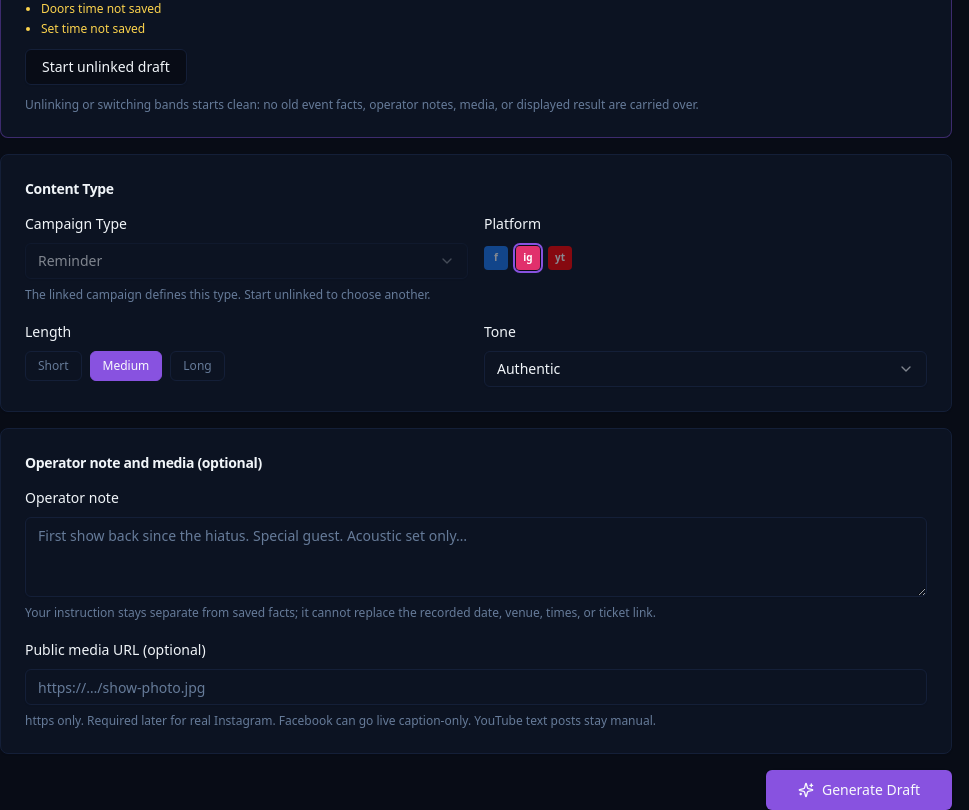
it: campaign-linked generation through actual Content Studio › never labels a wrong or malformed result successful: {"bandId":"clhf5gt0000000test0bandid2"}
(page scrolled)
What coordinates should you click on to do the following:
click the button "Generate Draft"
I would click on:
 (859, 790)
Its box is 766,770 -> 952,809.
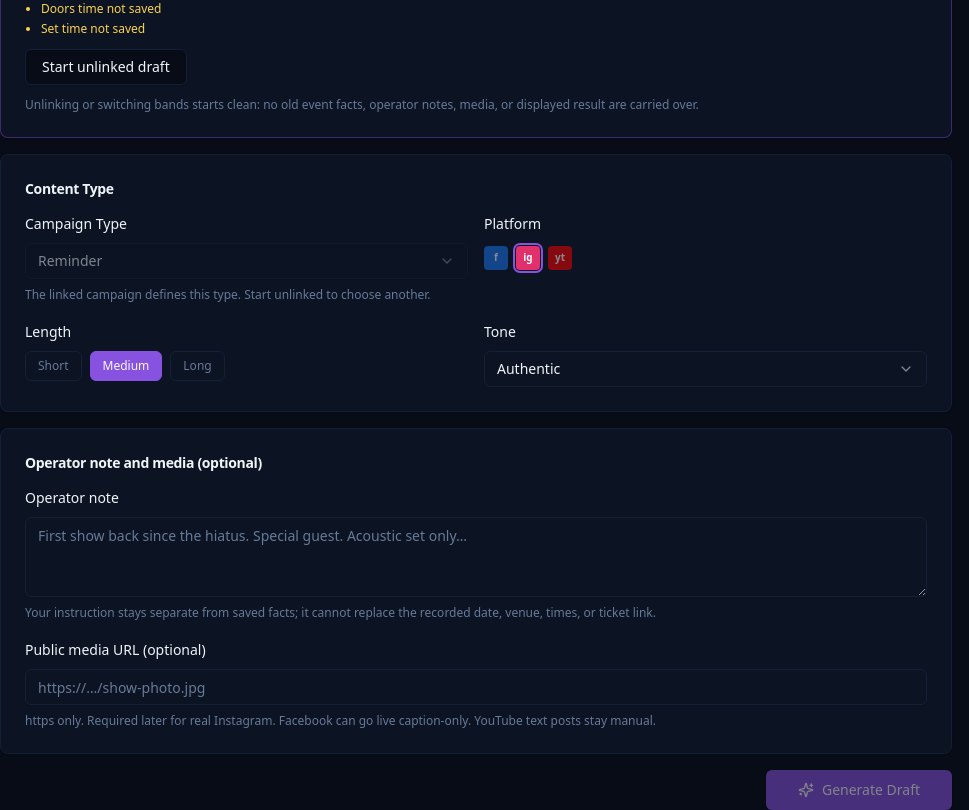
Now the button "Generate Draft" is disabled, box 766,770 -> 952,809
